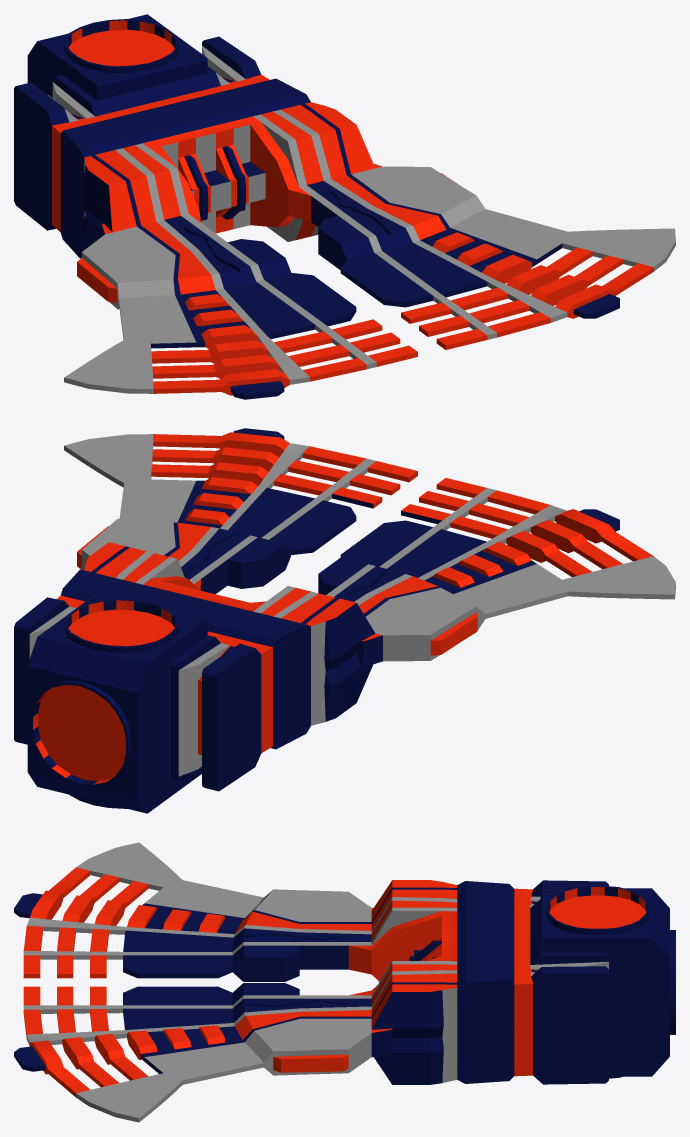
The model's file is TheGrainPlant_LOD01.FBX.
The picture shows the model from 3 angles, top to bottom: view 1: azimuth 30°, elevation 25°; view 2: azimuth 150°, elevation 25°; view 3: azimuth 270°, elevation 25°; orthographic projection. The views are drawn at different scales.
Visible parts, largest first — view 1: Plant004; view 2: Plant004; view 3: Plant004.
Part boxes in pixels (box(x1,y1,x2,y2)): Plant004: box(14, 14, 675, 399); Plant004: box(14, 428, 675, 813); Plant004: box(14, 842, 675, 1122).
Size of the model in its own units: 394 by 400 by 99.47.
